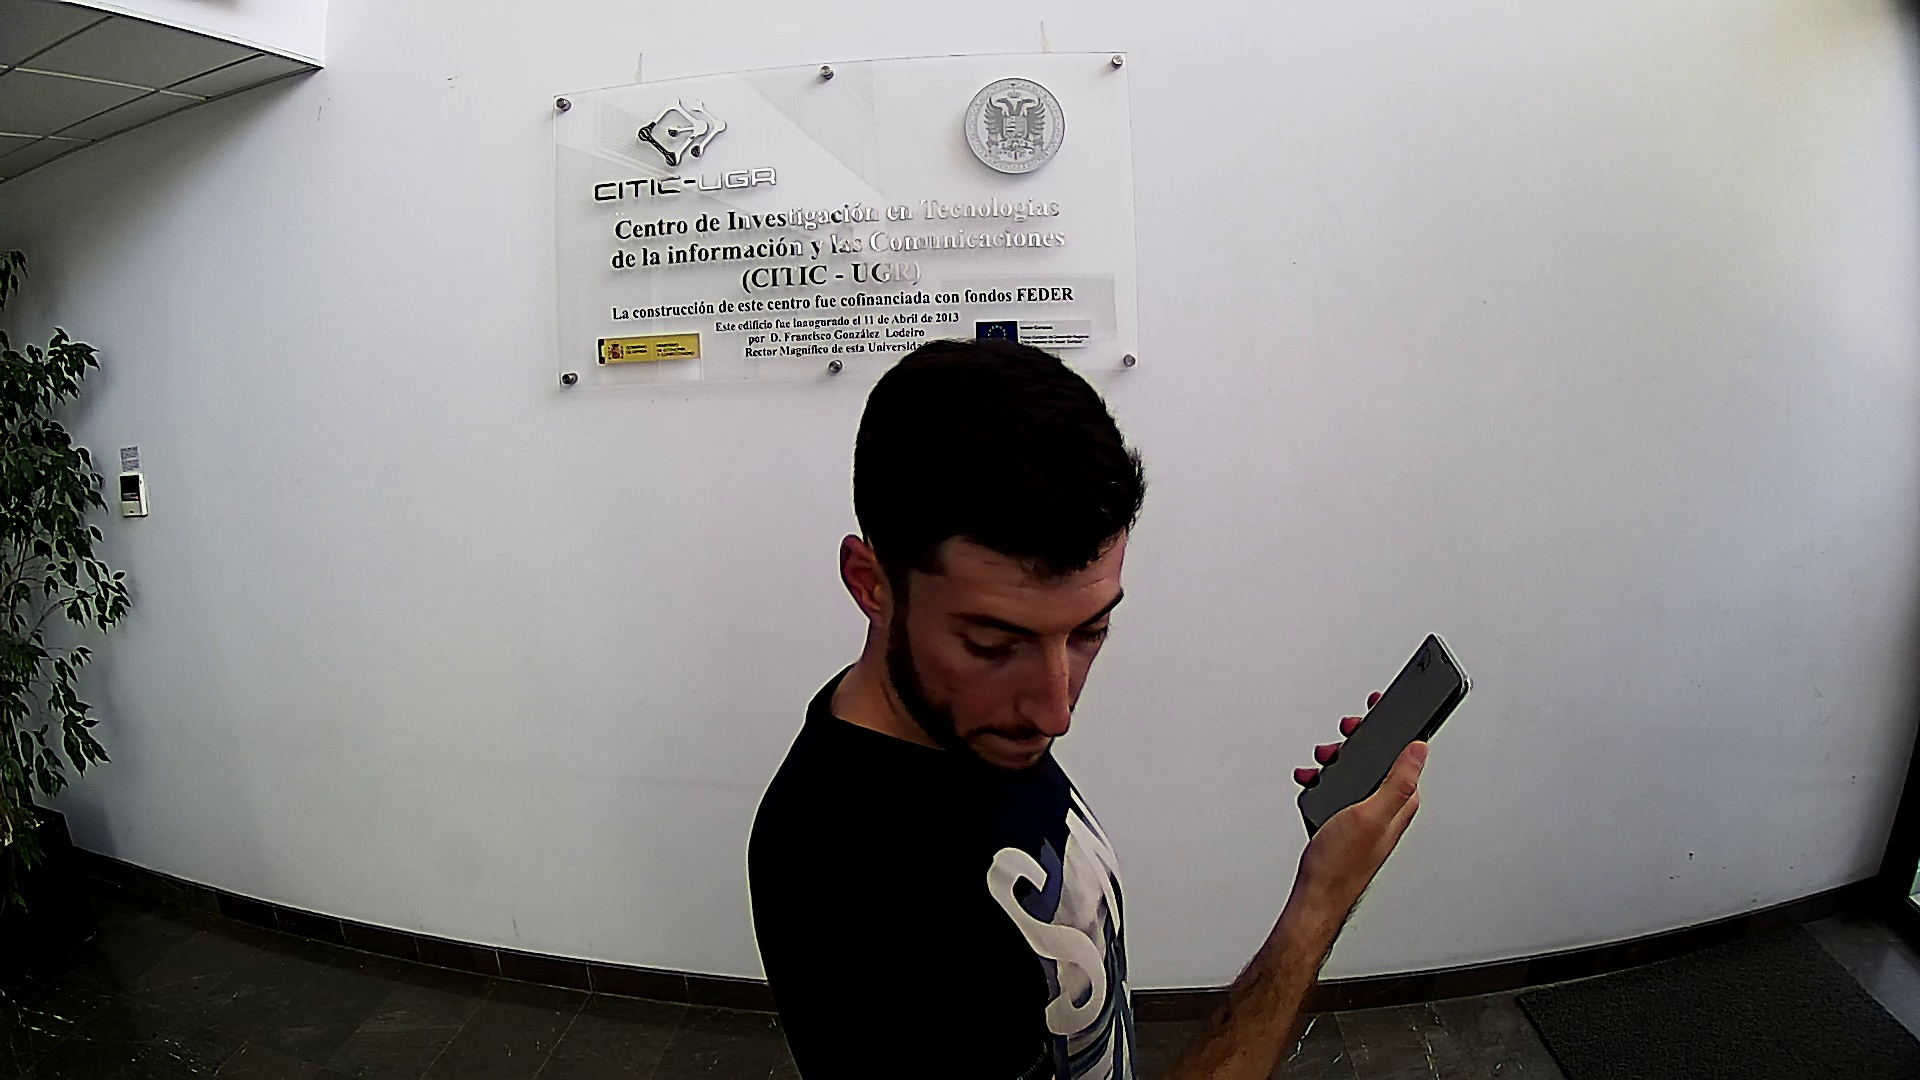smartphone: (1296, 629, 1476, 848)
